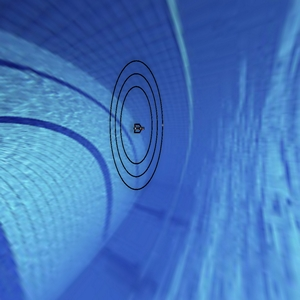circle: (99, 47, 182, 198)
submarine: (129, 115, 146, 141)
